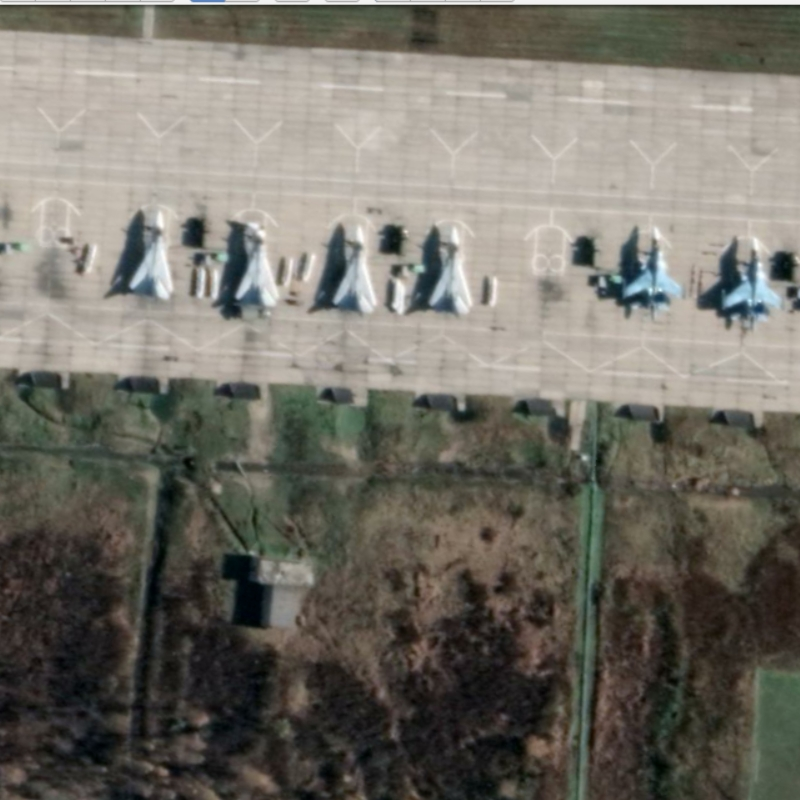A19: (619, 224, 689, 325), (717, 235, 786, 335)
A20: (426, 223, 475, 318), (330, 223, 379, 316), (127, 209, 176, 302), (232, 224, 282, 310)
